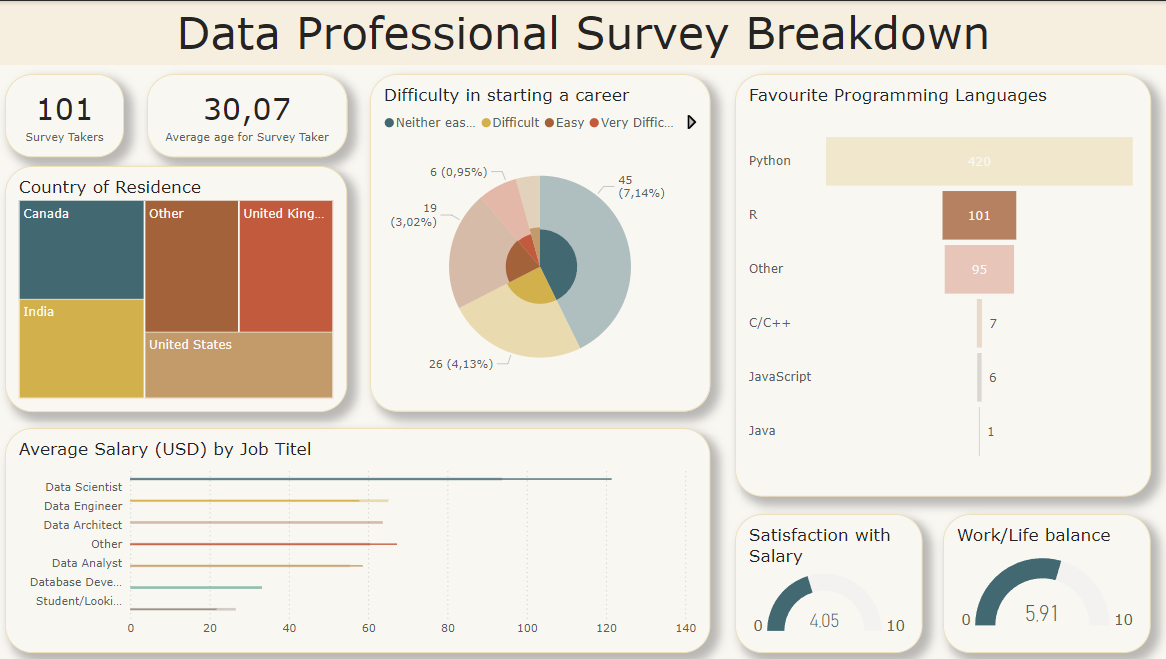

What the dashboard file says about the page in this screenshot:
{"tool":"powerbi","page":{"name":"Side 1","canvas":[1280,720],"ordinal":0},"visuals":[{"type":"textbox","box":[0,0,1280,70],"z":0},{"type":"card","fields":{"Values":["Count(Data Professional Survey.Unique ID)"]},"box":[7.7,79.8,130.1,90.7],"z":1000},{"type":"card","fields":{"Values":["Avg(Data Professional Survey.Q10 - Current Age)"]},"box":[162.9,79.8,218.6,90.7],"z":2000},{"type":"clusteredBarChart","title":"Average Salary (USD) by Job Titel","fields":{"Category":["Data Professional Survey.Q1 - Which Title Best Fits your Current Role?.1"],"Y":["Avg(Data Professional Survey.Average Salary)"],"Series":["Data Professional Survey.Q1 - Which Title Best Fits your Current Role?.1"]},"box":[7.7,466.7,770.6,245.9],"z":3000},{"type":"funnel","title":"Favourite Programming Languages","fields":{"Category":["Data Professional Survey.Q5 - Favorite Programming Language.1.1.1","Data Professional Survey.Q1 - Which Title Best Fits your Current Role?.1"],"Y":["CountNonNull(Data Professional Survey.Unique ID)"]},"box":[805.6,79.8,454.7,462.4],"z":4000},{"type":"treemap","title":"Country of Residence","fields":{"Group":["Data Professional Survey.Q11 - Which Country do you live in?.1"],"Values":["Count(Data Professional Survey.Q11 - Which Country do you live in?.1)"]},"box":[7.7,180.4,373.8,268.9],"z":5000},{"type":"gauge","title":"Work/Life balance","fields":{"Y":["Avg(Data Professional Survey.Q6 - How Happy are you in your Current Position with the following? (Work/Life Balance))"],"MinValue":["Min(Data Professional Survey.Q6 - How Happy are you in your Current Position with the following? (Work/Life Balance))1"],"MaxValue":["Max(Data Professional Survey.Q6 - How Happy are you in your Current Position with the following? (Work/Life Balance))2"]},"box":[1033,560.8,227.4,151.9],"z":6000},{"type":"gauge","title":"Satisfaction with Salary","fields":{"Y":["Avg(Data Professional Survey.Q6 - How Happy are you in your Current Position with the following? (Salary))"],"MinValue":["Min(Data Professional Survey.Q6 - How Happy are you in your Current Position with the following? (Salary))"],"MaxValue":["Max(Data Professional Survey.Q6 - How Happy are you in your Current Position with the following? (Salary))"]},"box":[805.6,560.8,205.5,151.9],"z":7000},{"type":"pieChart","title":"Difficulty in starting a career","fields":{"Y":["CountNonNull(Data Professional Survey.Q7 - How difficult was it for you to break into Data?)"],"Category":["Data Professional Survey.Q7 - How difficult was it for you to break into Data?"]},"box":[406.6,79.8,371.6,369.5],"z":8000}]}

Visuals, with their boxes in screenshot pixels (x1, y1, x2, y2), scaled from the page's 1280x720 canvas onto the 1166x659 screenshot:
textbox: (0, 0, 1165, 64)
card - Count(Data Professional Survey.Unique ID): (7, 73, 126, 156)
card - Avg(Data Professional Survey.Q10 - Current Age): (148, 73, 348, 156)
"Average Salary (USD) by Job Titel" clusteredBarChart: (7, 427, 709, 652)
"Favourite Programming Languages" funnel: (734, 73, 1148, 496)
"Country of Residence" treemap: (7, 165, 348, 411)
"Work/Life balance" gauge: (941, 513, 1148, 652)
"Satisfaction with Salary" gauge: (734, 513, 921, 652)
"Difficulty in starting a career" pieChart: (370, 73, 709, 411)
